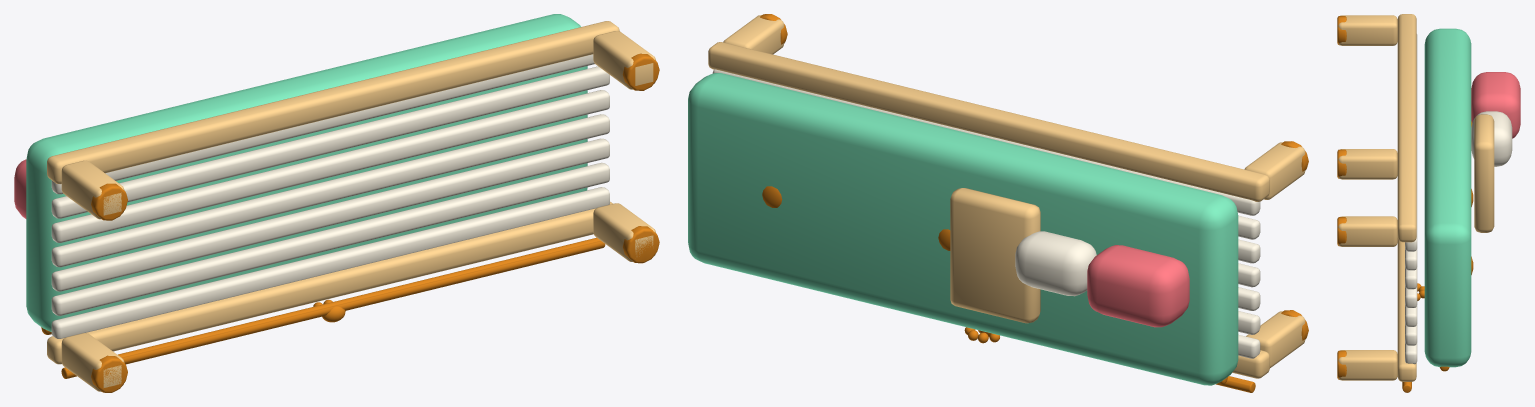
The model's file is BalconyCushionBench_Premium.fbx.
3 renders of one model, left to right at view 1: azimuth 30°, elevation 25°; view 2: azimuth 150°, elevation 25°; view 3: azimuth 270°, elevation 25°, orthographic. The views are drawn at different scales.
Parts seen in each view (by area): view 1: BalconyCushionBench; view 2: BalconyCushionBench; view 3: BalconyCushionBench.
Boxes of the visible parts, x1=… form: BalconyCushionBench: x1=14, y1=14, x2=659, y2=392; BalconyCushionBench: x1=688, y1=14, x2=1308, y2=392; BalconyCushionBench: x1=1337, y1=14, x2=1520, y2=392.
Bounding box in the file's own units: 1.51 × 0.5915 × 0.5463.
